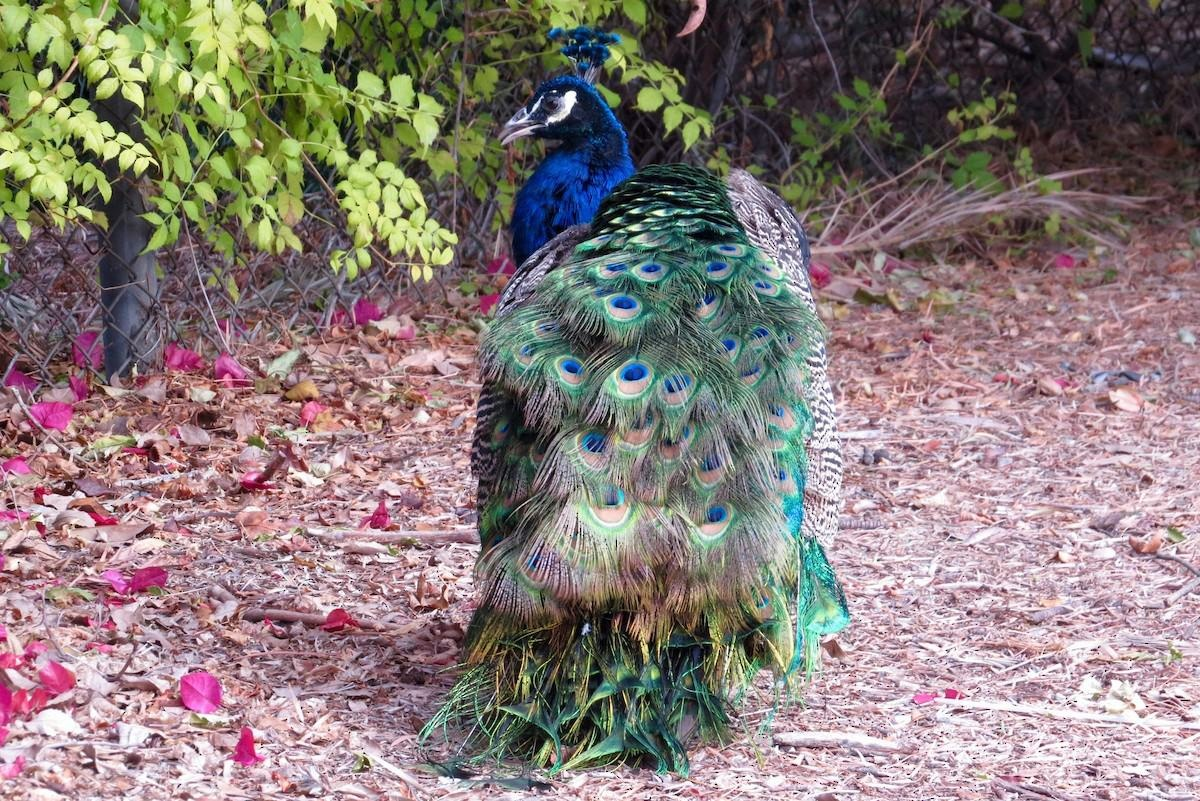peacock: (483, 36, 857, 801)
